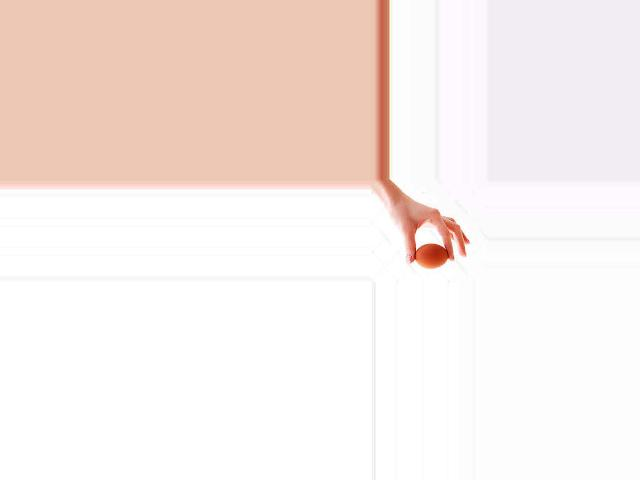egg: (414, 244, 448, 269)
